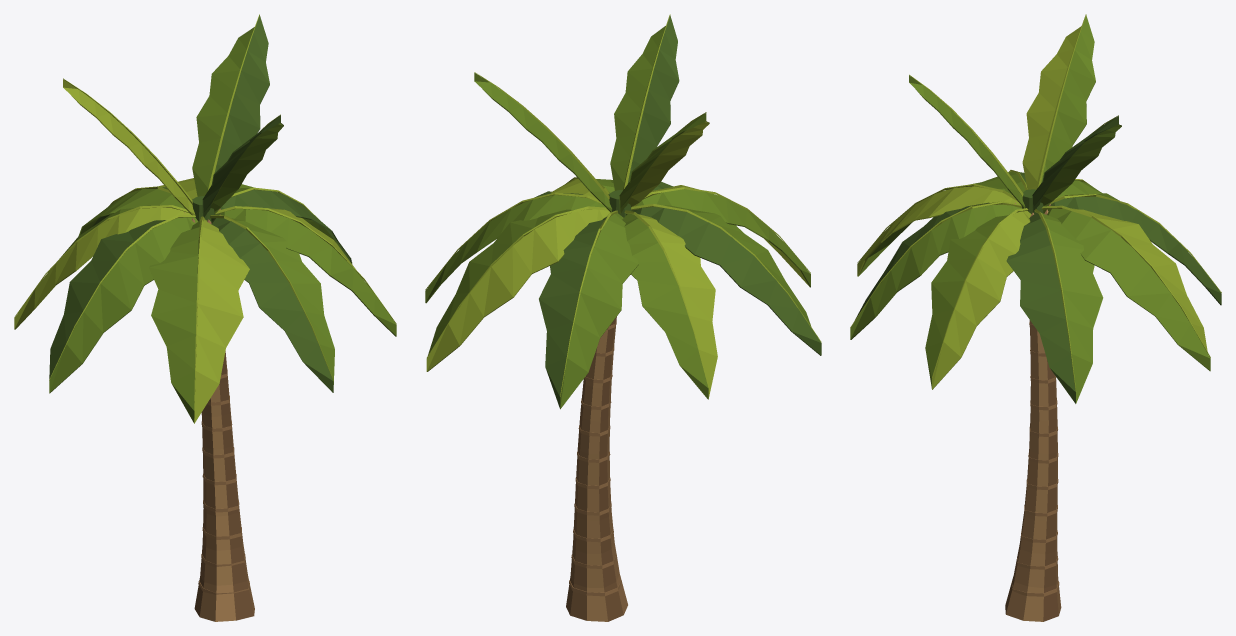
The model's file is palm_b.glb.
The picture shows the model from 3 angles, left to right: view 1: azimuth 30°, elevation 25°; view 2: azimuth 150°, elevation 25°; view 3: azimuth 270°, elevation 25°; orthographic projection. The views are drawn at different scales.
Parts seen in each view (by area): view 1: body; view 2: body; view 3: body.
Boxes of the visible parts, x1=… form: body: x1=14, y1=14, x2=396, y2=621; body: x1=425, y1=14, x2=821, y2=621; body: x1=850, y1=14, x2=1221, y2=621.
Bounding box in the file's own units: 4.33 × 6.49 × 4.12.
